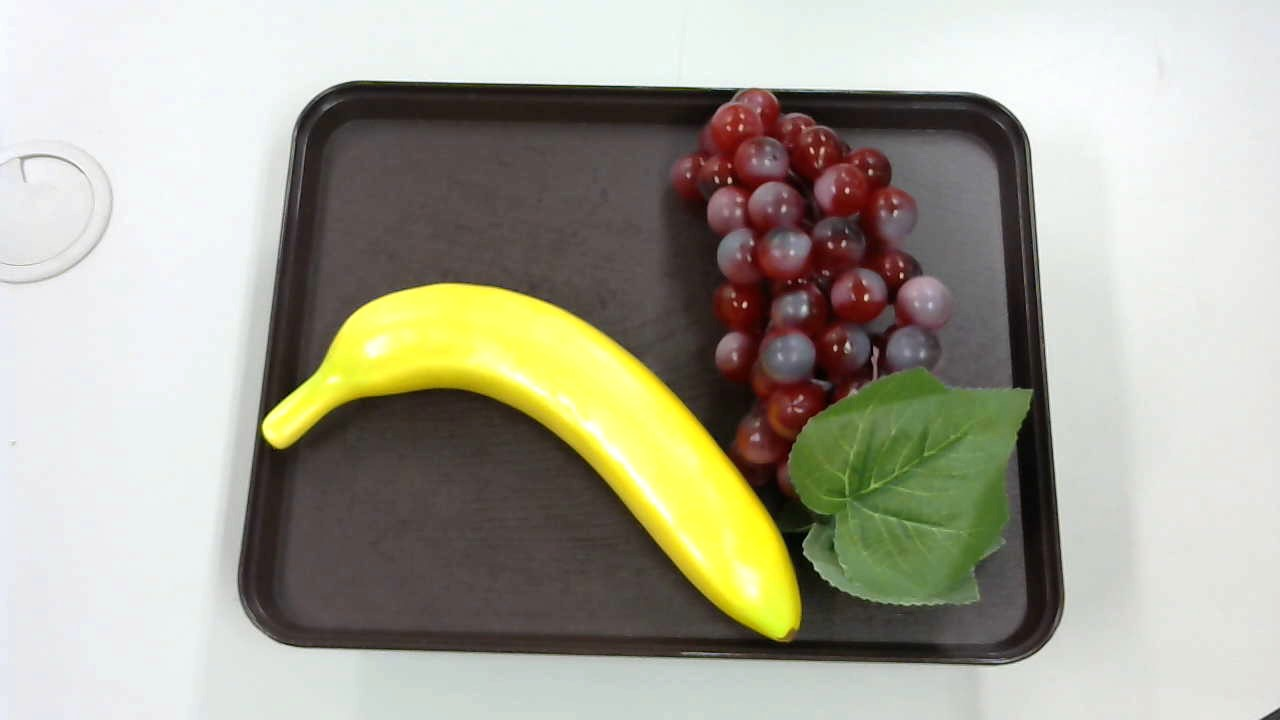banana: (261, 280, 807, 647)
grape: (662, 83, 1042, 617)
